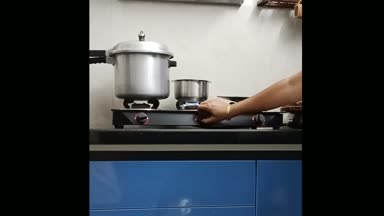flame_gas_off: (121, 96, 158, 126)
flame_gas_on: (175, 98, 206, 123)
